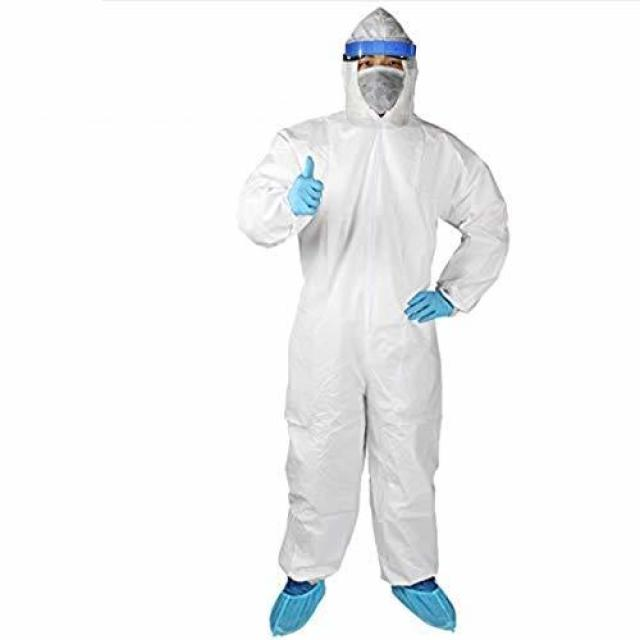Coverall: (224, 10, 490, 639)
Gloves: (392, 279, 478, 362), (291, 145, 332, 227)
Mask: (346, 64, 417, 108)
